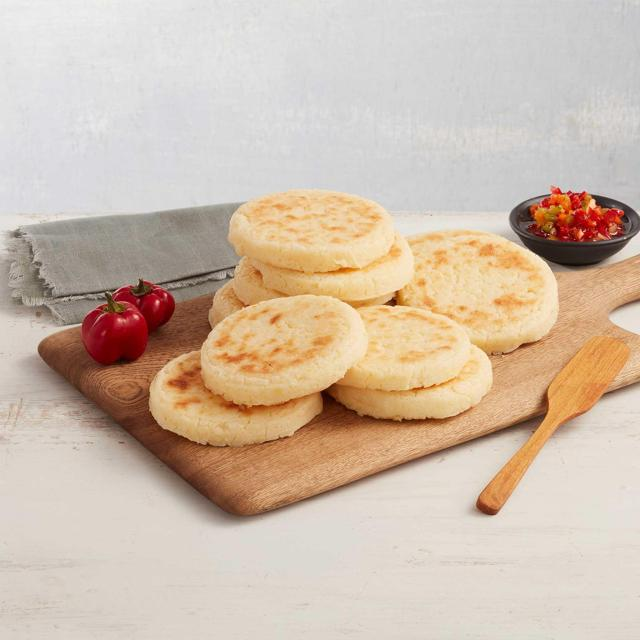arepa: (191, 290, 379, 414), (221, 181, 411, 278)
